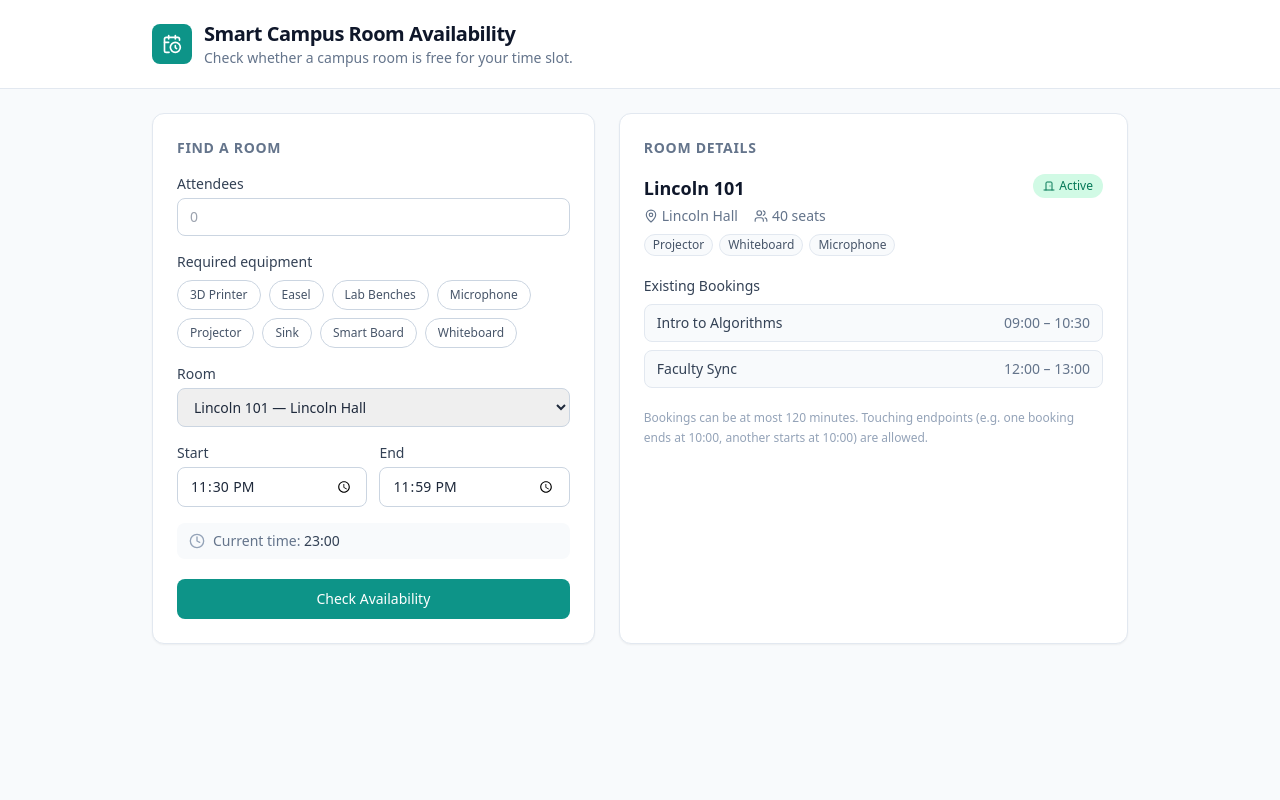
it: RoomChecker UI — late-night default times (R2) › R2-23:00: provides a valid same-day default instead of 24:00
Expected: the number of time fields is 2, [177,467,367,507]; [379,467,570,507]
Expected: the 1st time field holds "23:30", [177,467,367,507]
Click the button "Check Availability" at (373, 599), box [177,579,570,619]
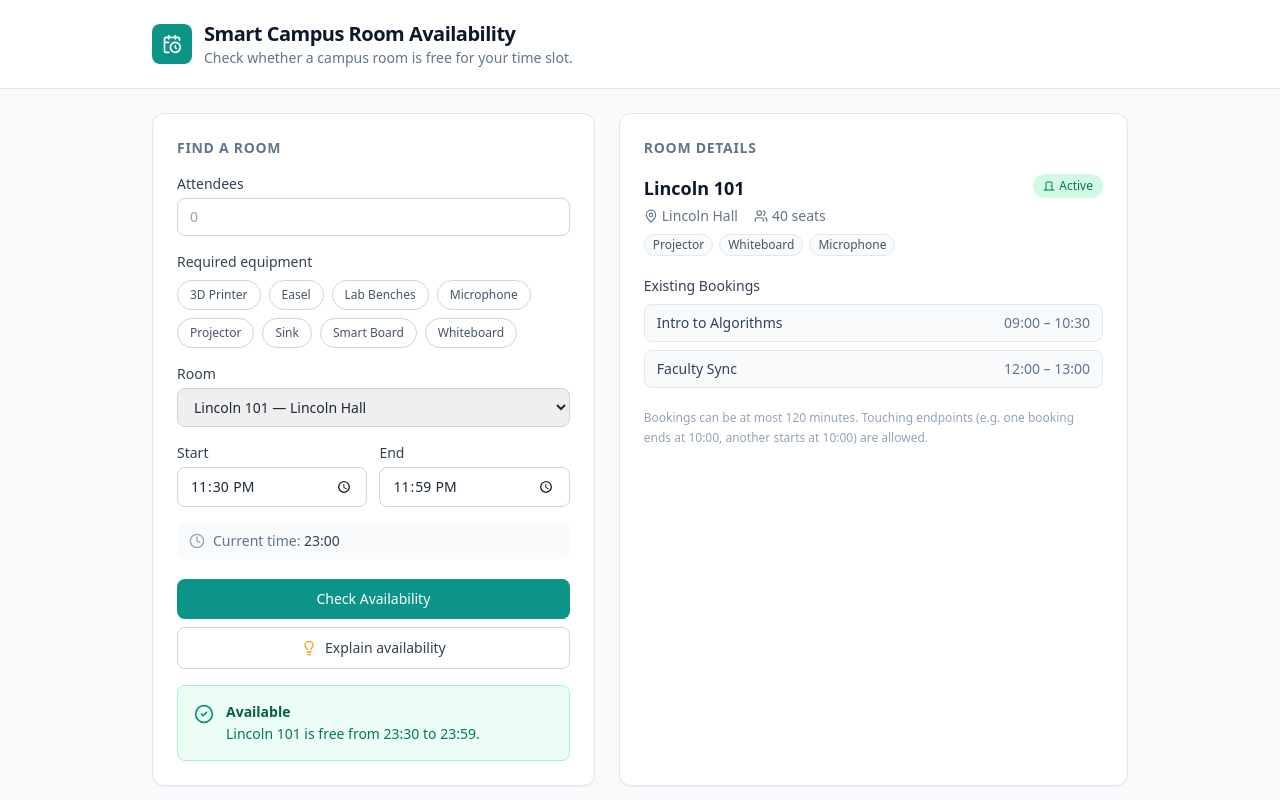
Expected: the text "Lincoln 101 is free from 23:30 to 23:59." is shown, [226,724,480,744]
